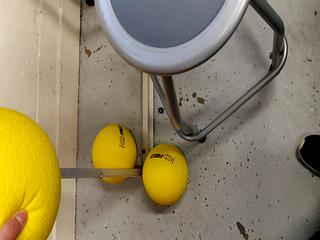power_cell: (1, 104, 57, 240), (88, 124, 143, 185), (136, 144, 191, 205)
